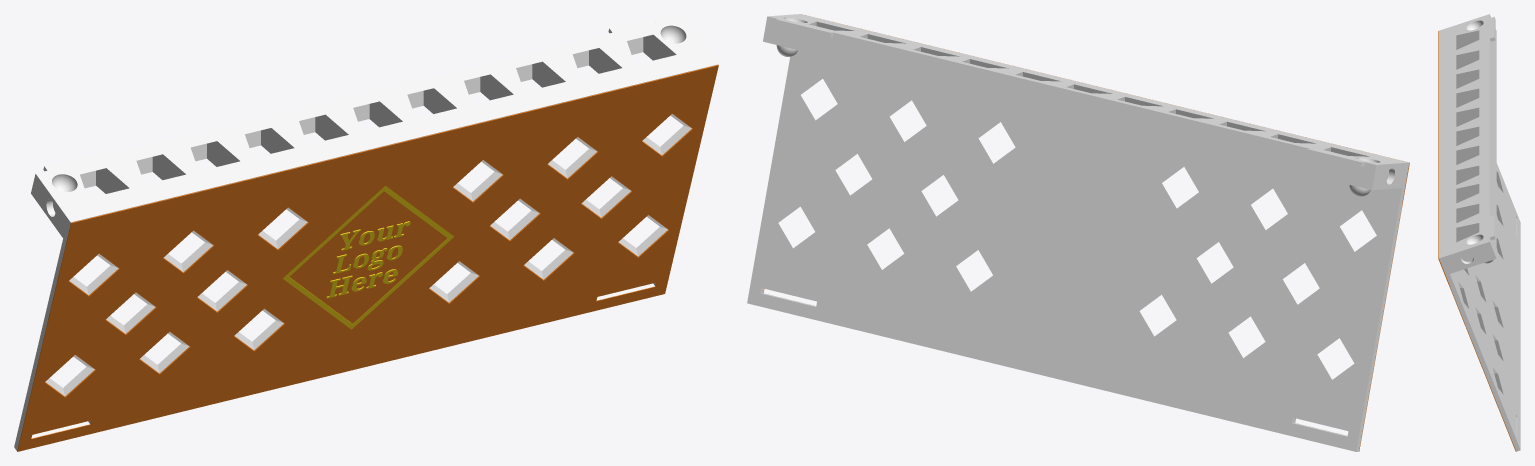
3 renders of one model, left to right at view 1: azimuth 30°, elevation 25°; view 2: azimuth 150°, elevation 25°; view 3: azimuth 270°, elevation 25°, orthographic. The views are drawn at different scales.
Parts seen in each view (by area): view 1: group_2_16089887, group_1_16448250, group_0_16768282; view 2: group_1_16448250; view 3: group_1_16448250, group_2_16089887.
Boxes of the visible parts, x1=… form: group_2_16089887: x1=17, y1=64, x2=718, y2=451; group_1_16448250: x1=14, y1=14, x2=718, y2=450; group_0_16768282: x1=283, y1=186, x2=453, y2=329; group_1_16448250: x1=747, y1=14, x2=1409, y2=451; group_1_16448250: x1=1439, y1=14, x2=1520, y2=451; group_2_16089887: x1=1438, y1=31, x2=1516, y2=451.
Size of the model in its own units: 218 by 94.3 by 33.26.
